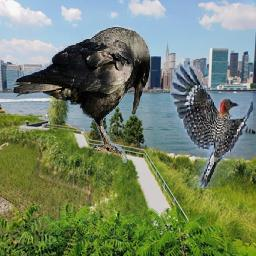Crow: (12, 25, 151, 163)
Woodpecker: (171, 66, 254, 189)
